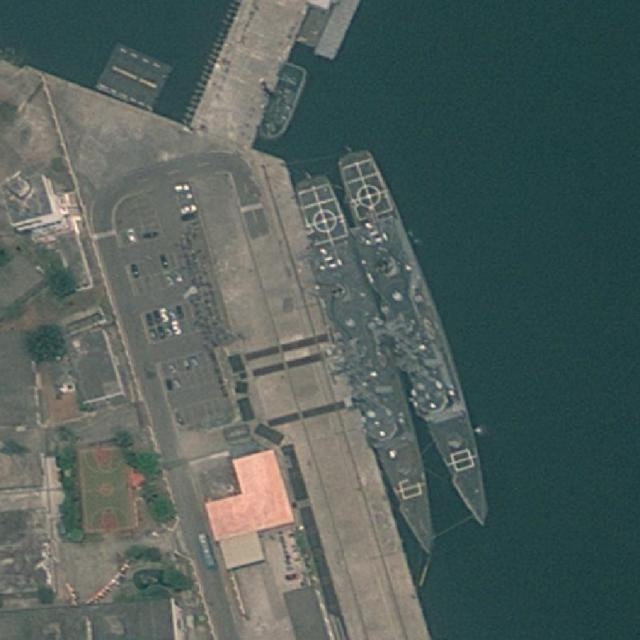Frigate: (331, 144, 504, 536), (286, 170, 454, 562)
